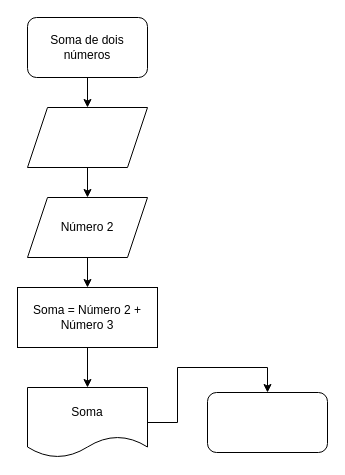
The diagram is 345 pixels wide and 475 high, and some of its shapes have lost their labels. Each missing label, with the centre of its shape:
Fim: the point at 267,422
Número 1: the point at 87,137
